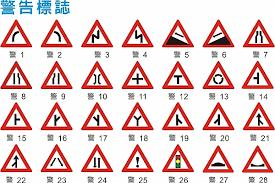narrow_road: (239, 17, 274, 48), (39, 60, 71, 88), (0, 60, 31, 88)
